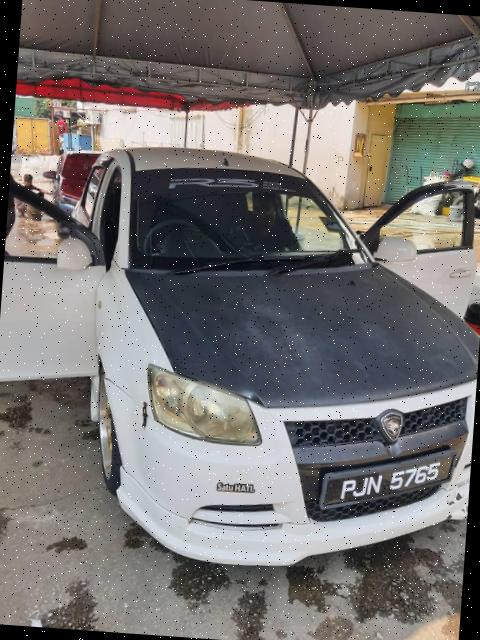License_Plate: (324, 454, 462, 521)
car: (1, 116, 480, 581)
